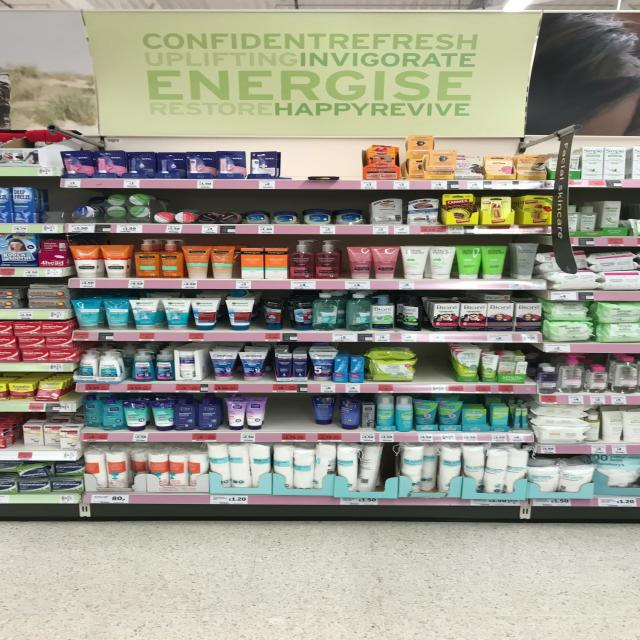void: (281, 149, 322, 189), (323, 148, 363, 189), (421, 348, 450, 393), (270, 396, 294, 442), (296, 397, 316, 442)
